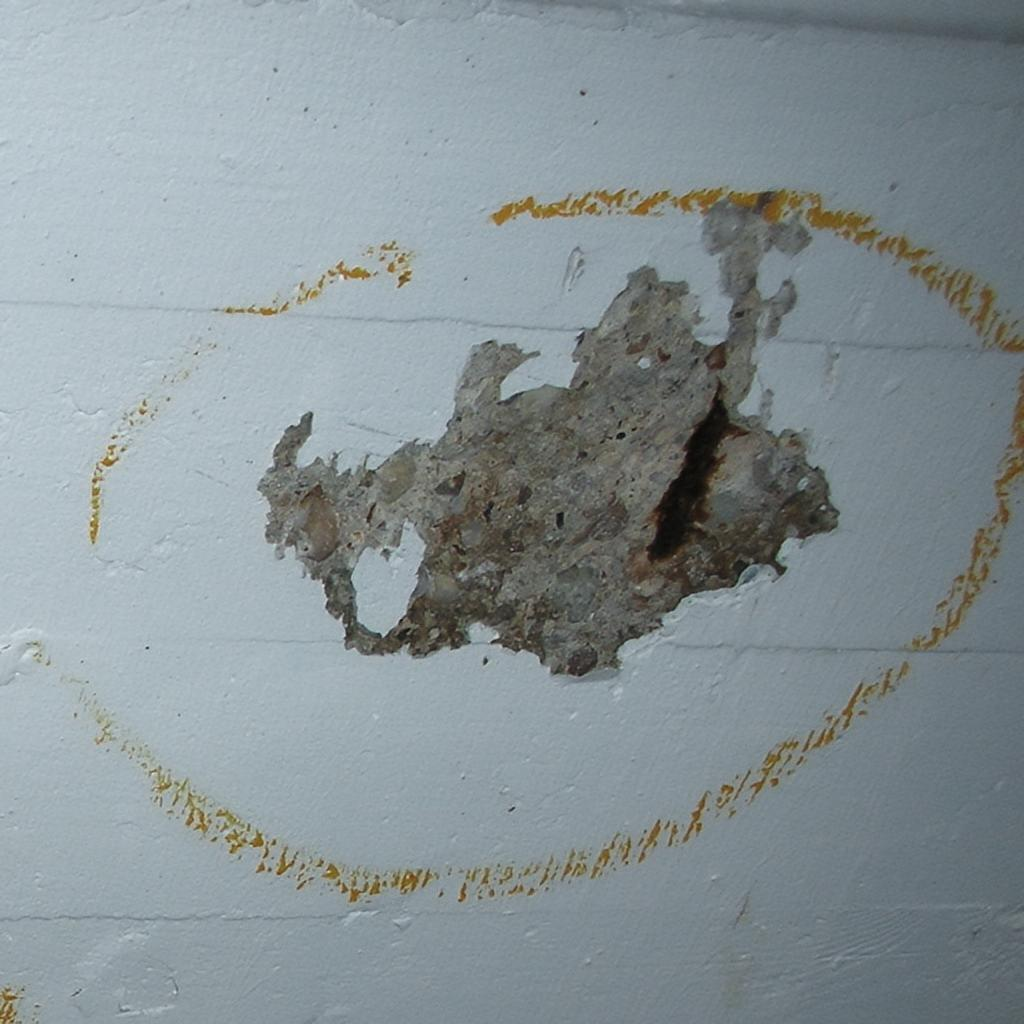exposed_rebar: (648, 384, 732, 560)
spalling: (260, 202, 838, 675)
